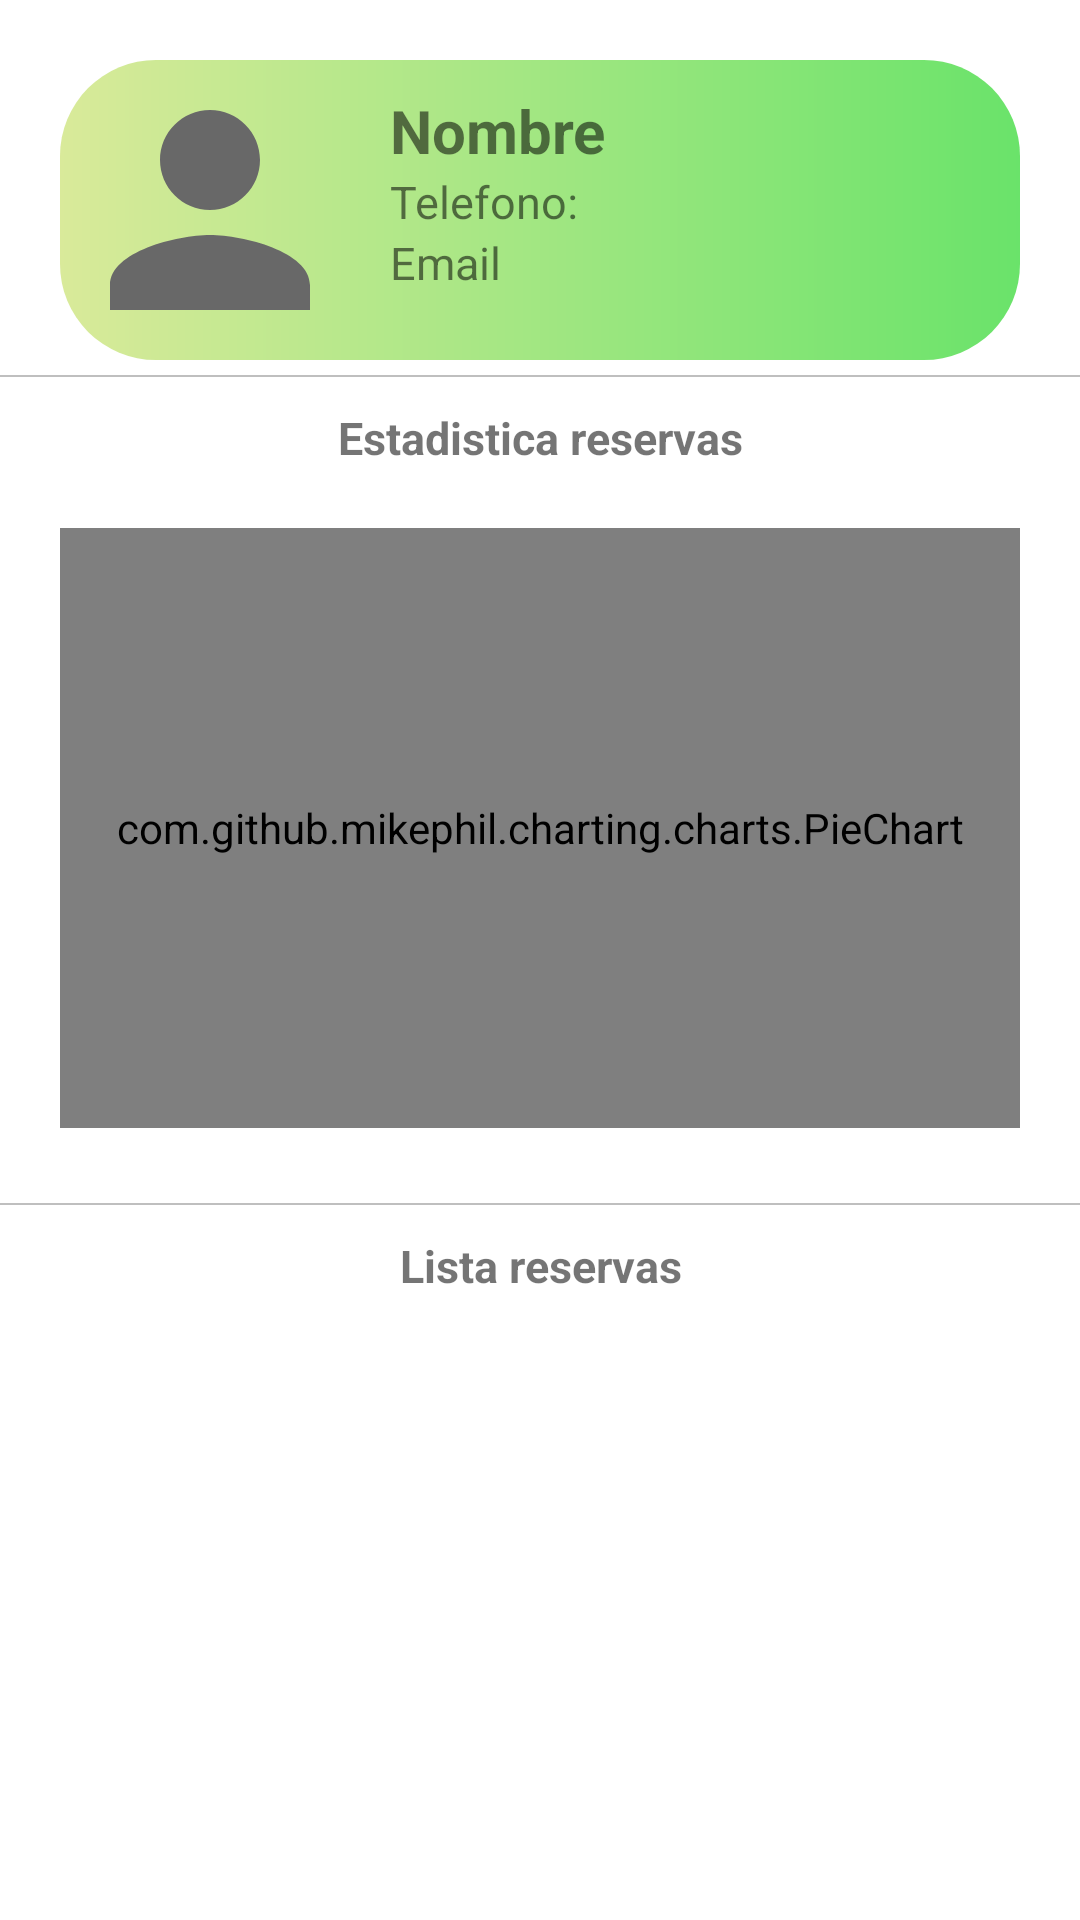

Named icons in this screenshot (1080×1920) and their centers, [x,y]:
usuario: [210,210]
